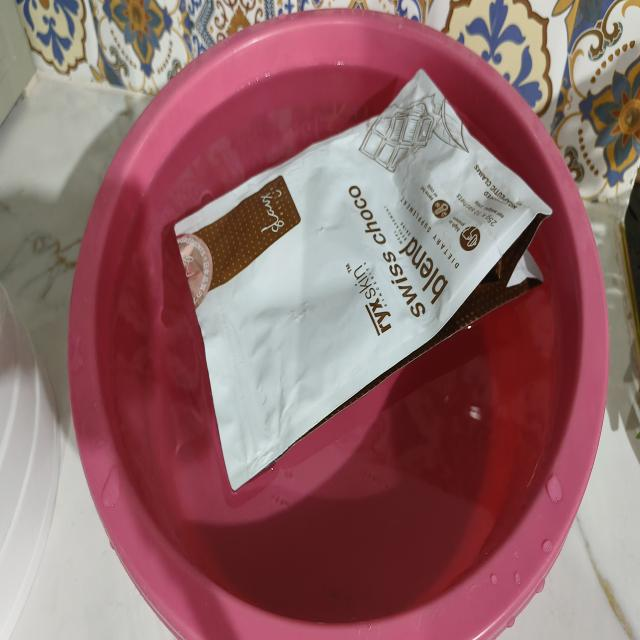Plastic Pouch: (175, 72, 551, 490)
